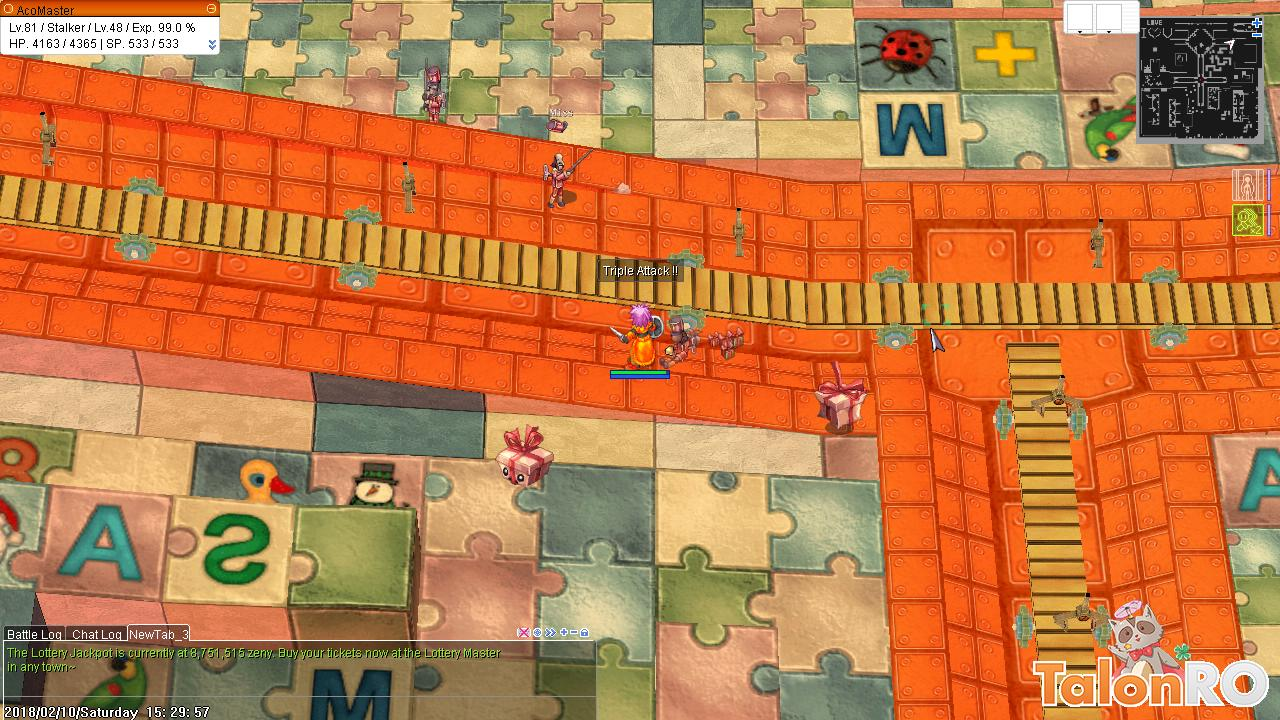loot: (663, 345, 675, 358)
mob: (536, 116, 598, 215), (416, 54, 451, 131)
myst_case: (813, 358, 875, 437), (492, 423, 555, 491)
